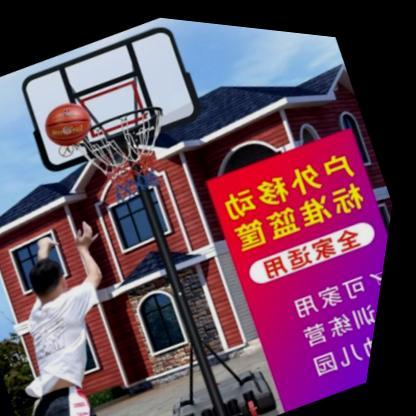basketball: (39, 91, 103, 153)
rim: (66, 87, 200, 216)
